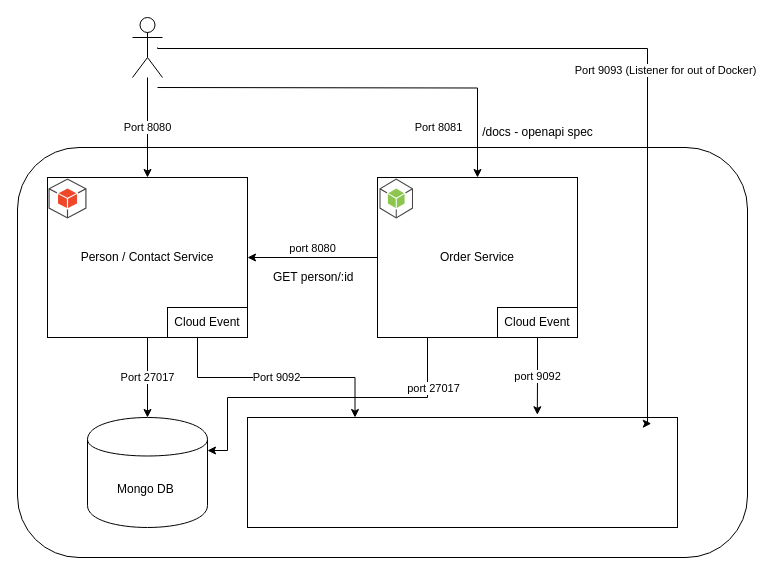
Some shapes in this 774 by 575 pixel diagram are drawn without their labels. Here are the shapes that lost their labels. From the top down, the box of each, then its label:
(132, 16, 162, 78): REST Client (Open API 3.0)
(246, 416, 678, 528): Kafka / Zookeeper
